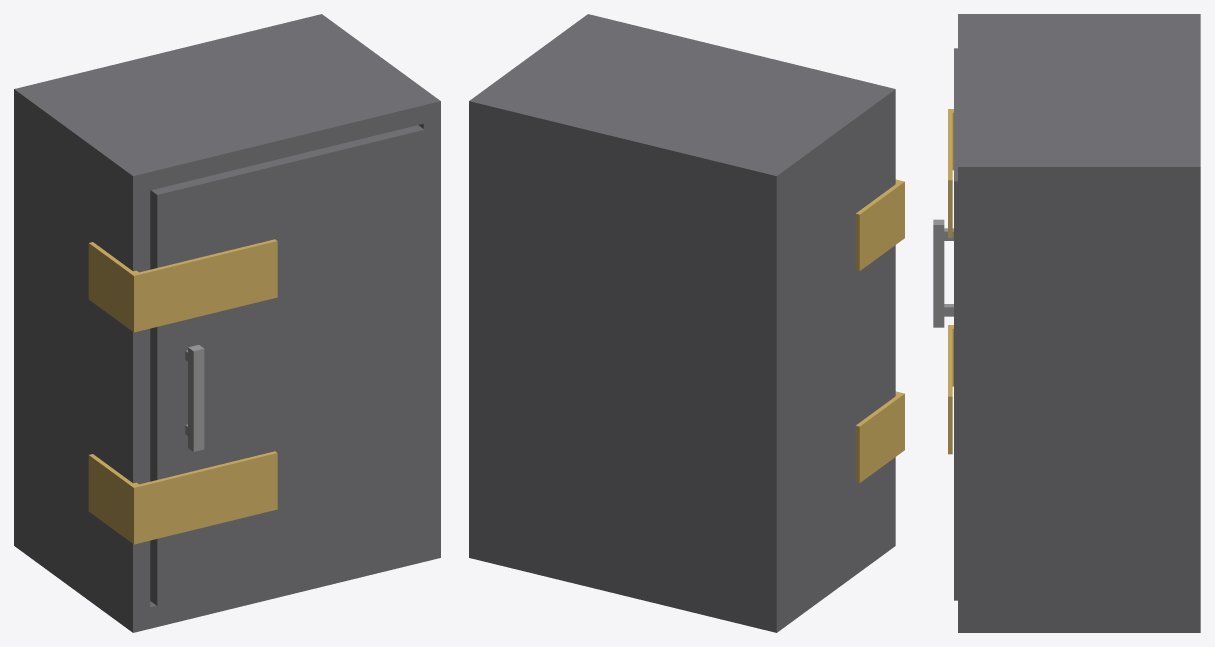
Rendered from box kamar.fbx.
3 renders of one model, left to right at view 1: azimuth 30°, elevation 25°; view 2: azimuth 150°, elevation 25°; view 3: azimuth 270°, elevation 25°, orthographic.
Visible parts, largest first — view 1: Cube, Cube.001, Cube.004, Cube.003, Cube.002; view 2: Cube, Cube.004, Cube.003; view 3: Cube, Cube.001, Cube.002, Cube.004, Cube.003.
Part boxes in pixels (x1,y1,x2,y2): Cube: (14,14,440,632); Cube.001: (150,125,424,605); Cube.004: (88,451,277,544); Cube.003: (88,239,277,332); Cube.002: (185,344,204,451); Cube: (469,14,895,632); Cube.004: (855,391,904,483); Cube.003: (855,179,904,271); Cube: (958,14,1200,632); Cube.001: (954,48,957,600); Cube.002: (933,219,953,327); Cube.004: (948,325,953,454); Cube.003: (948,109,953,237).
Size of the model in its own units: 251 by 351 by 183.
Materials: 5 (5 with a texture image).
